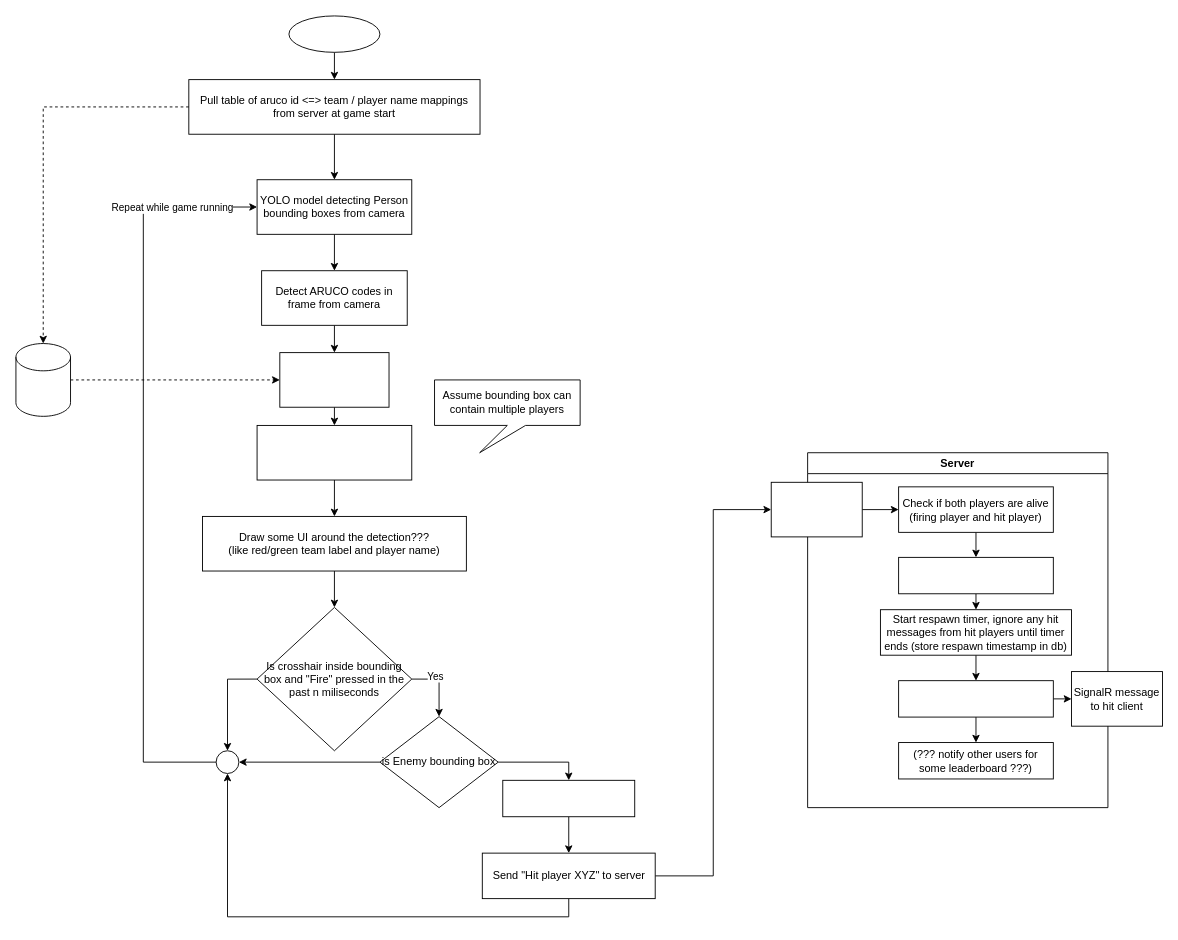
Image size: 1178x940. Some labels were removed from this diagram. Each missing label, with the box of its shape:
Assign team/player data to bounding boxes based on areas overlapping: (256, 425, 412, 480)
Hit enemy player(s) tied to the bounding box: (502, 779, 635, 817)
Mark player as hit in db: (898, 556, 1053, 594)
Match detected aruco ids against team mappings: (279, 352, 389, 407)
Notify hit user with timestamp of respawning: (898, 680, 1053, 717)
SignalR message: (770, 481, 862, 537)
Start: (288, 15, 380, 52)
